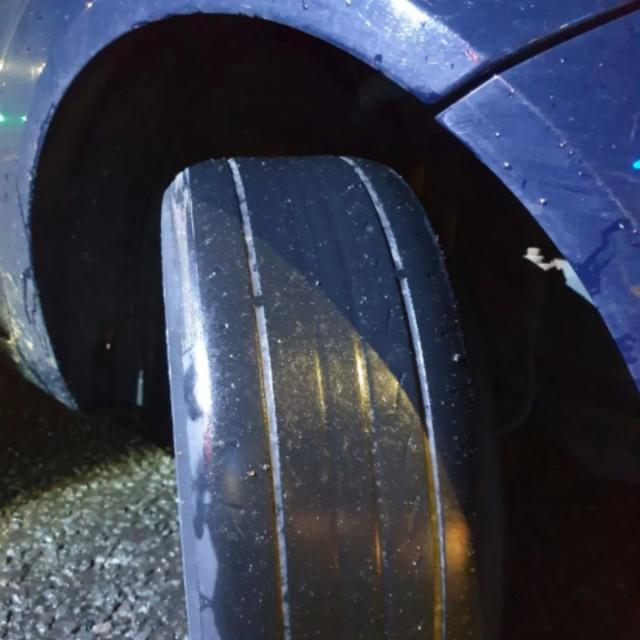Flat spots: (186, 176, 441, 638)
